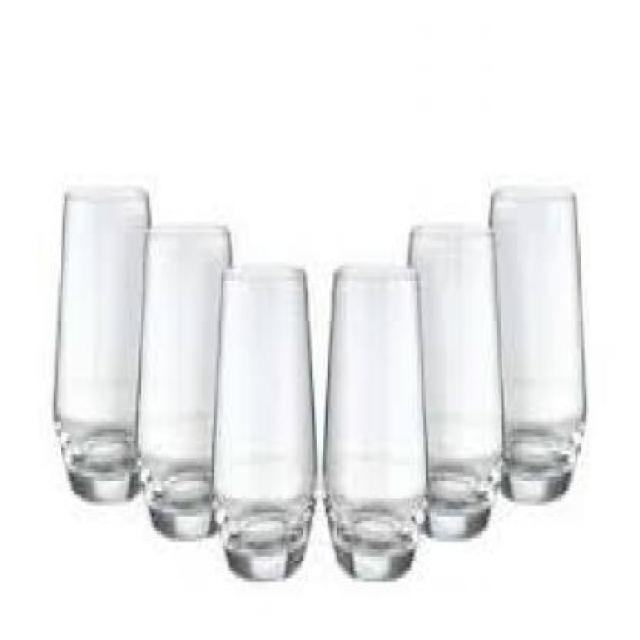kaca: (211, 262, 315, 582), (322, 258, 423, 578), (486, 186, 585, 506), (51, 189, 149, 502), (406, 218, 500, 542), (134, 222, 229, 538)
